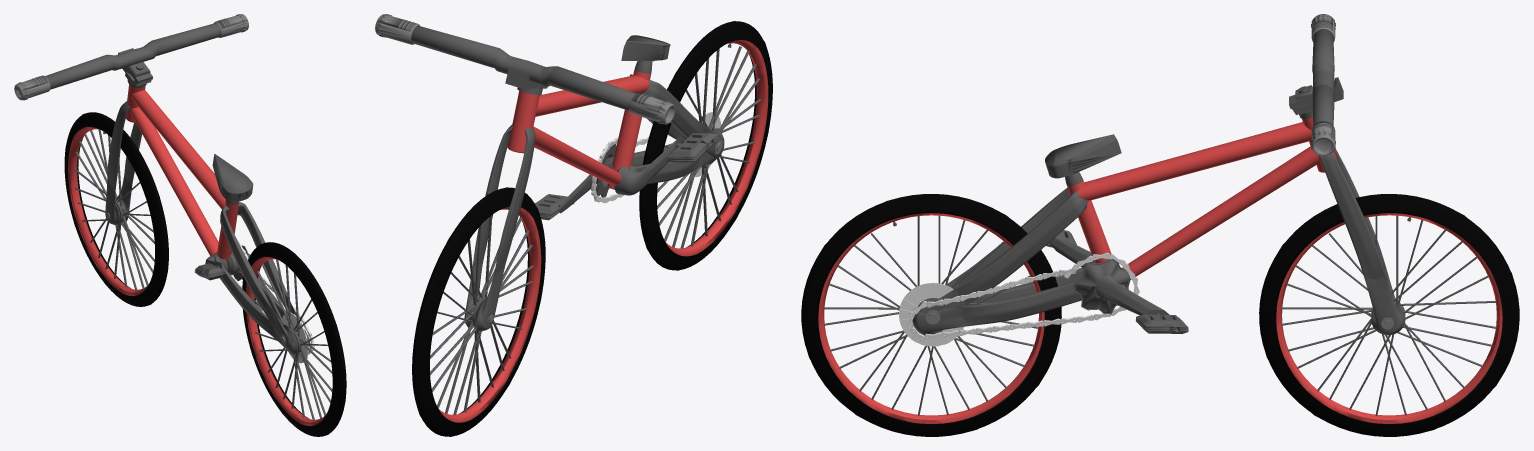
File: BİSİKLET.fbx
3 views of the same model, side by side, from view 1: azimuth 30°, elevation 25°; view 2: azimuth 150°, elevation 25°; view 3: azimuth 270°, elevation 25° (orthographic). The views are drawn at different scales.
Parts seen in each view (by area): view 1: Sweep_4, Sweep_2, Loft_1, Loft_1_6, RuraGórna_1, RuraGórna, Loft_1_5, Sweep_3, Sweep, Loft_2_3, Cap_1_2, RuraGórna_2 (+3 smaller); view 2: Sweep_4, Sweep_2, Loft_1, Loft_1_5, Sweep, Sweep_3, RuraGórna_1, Loft_1_6, RuraGórna, RuraGórna_2, RuraGórna_3, Loft_2_3 (+4 smaller); view 3: Sweep_4, Sweep_2, RuraGórna, Loft_1_6, Loft_1_5, Loft_2_3, Sweep_3, Sweep, RuraGórna_1, Loft_1, Cylinder_1, RuraGórna_2 (+5 smaller).
Boxes of the visible parts, x1,y1,x2,y2 form: Sweep_4: [64, 112, 168, 306]; Sweep_2: [242, 242, 346, 436]; Loft_1: [15, 14, 248, 100]; Loft_1_6: [220, 202, 306, 349]; RuraGórna_1: [130, 107, 218, 255]; RuraGórna: [131, 90, 225, 208]; Loft_1_5: [105, 101, 142, 225]; Sweep_3: [68, 127, 148, 295]; Sweep: [245, 257, 325, 425]; Loft_2_3: [214, 255, 309, 355]; Cap_1_2: [214, 154, 252, 193]; RuraGórna_2: [217, 199, 238, 260]; Sweep_4: [412, 187, 545, 436]; Sweep_2: [639, 21, 772, 270]; Loft_1: [375, 14, 674, 124]; Loft_1_5: [464, 124, 535, 331]; Sweep: [665, 40, 768, 256]; Sweep_3: [438, 206, 541, 422]; RuraGórna_1: [533, 126, 621, 185]; Loft_1_6: [630, 74, 724, 157]; RuraGórna: [535, 75, 649, 116]; RuraGórna_2: [607, 60, 652, 188]; RuraGórna_3: [507, 91, 539, 152]; Loft_2_3: [607, 143, 724, 184]; Sweep_4: [1259, 194, 1519, 436]; Sweep_2: [801, 194, 1061, 436]; RuraGórna: [1078, 122, 1311, 200]; Loft_1_6: [918, 187, 1088, 312]; Loft_1_5: [1319, 148, 1405, 335]; Loft_2_3: [912, 267, 1083, 334]; Sweep_3: [1276, 213, 1502, 423]; Sweep: [818, 213, 1044, 423]; RuraGórna_1: [1121, 146, 1318, 279]; Loft_1: [1311, 14, 1335, 155]; Cylinder_1: [899, 282, 965, 346]; RuraGórna_2: [1065, 172, 1111, 263].
Bounding box in the file's own units: 347 × 409 × 736.
